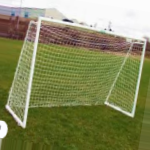goals: (5, 13, 148, 129)
